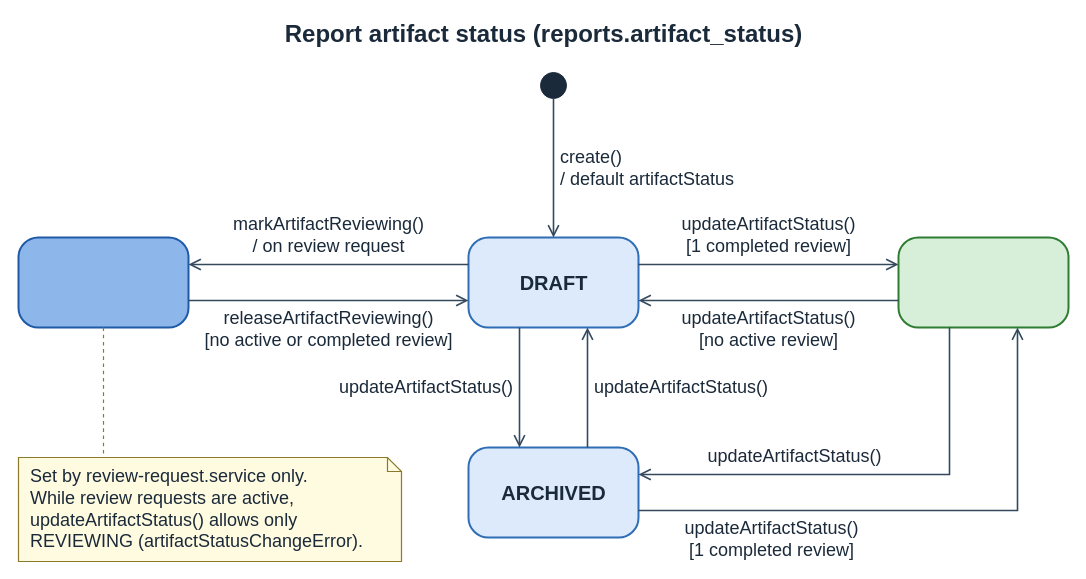
Image size: 1086x579. Some labels were removed from this diagram. The shapes that lost their labels are listed below. From the top down, each one's box as (x1, y1, x2, y2) in pixels, then its label:
(17, 236, 189, 328): REVIEWING
(897, 236, 1069, 328): FINAL
